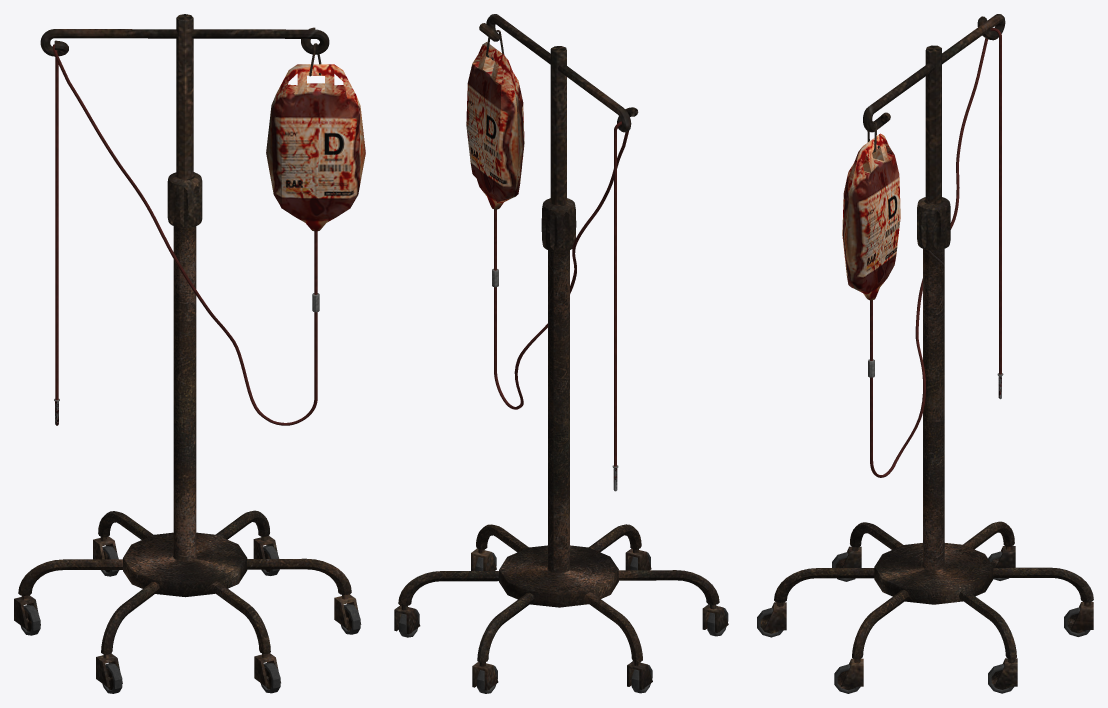
File: IV Stand 2.fbx
3 views of the same model, side by side, from view 1: azimuth 30°, elevation 25°; view 2: azimuth 150°, elevation 25°; view 3: azimuth 270°, elevation 25° (orthographic). The views are drawn at different scales.
Visible parts, largest first — view 1: 1-_IV_Stand_Material; view 2: 1-_IV_Stand_Material; view 3: 1-_IV_Stand_Material.
Boxes of the visible parts, x1,y1,x2,y2 form: 1-_IV_Stand_Material: (14, 14, 365, 693); 1-_IV_Stand_Material: (394, 14, 728, 693); 1-_IV_Stand_Material: (757, 14, 1093, 693).
Size of the model in its own units: 23.33 by 51.72 by 26.86.
Materials: 1 (1 with a texture image).
